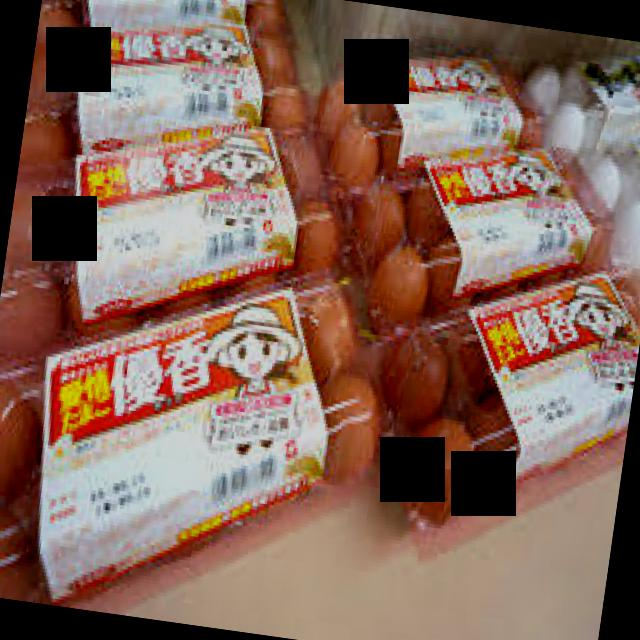egg: (0, 273, 381, 606), (0, 127, 342, 362), (375, 268, 640, 564), (344, 148, 614, 323), (20, 24, 312, 160), (309, 56, 540, 190), (520, 55, 640, 163), (577, 137, 640, 272)
